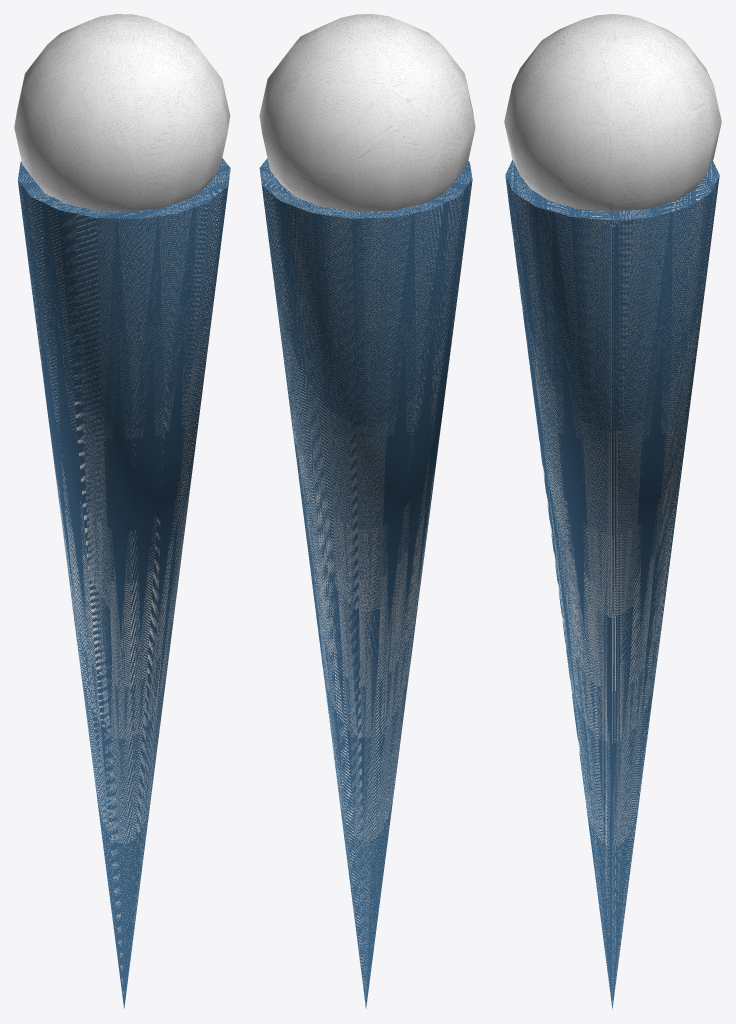
3 renders of one model, left to right at view 1: azimuth 30°, elevation 25°; view 2: azimuth 150°, elevation 25°; view 3: azimuth 270°, elevation 25°, orthographic.
Visible parts, largest first — view 1: mesh1_mesh1-geometry, mesh2_mesh2-geometry; view 2: mesh1_mesh1-geometry, mesh2_mesh2-geometry; view 3: mesh1_mesh1-geometry, mesh2_mesh2-geometry.
Boxes of the visible parts, x1,y1,x2,y2 form: mesh1_mesh1-geometry: (17,158,230,1008); mesh2_mesh2-geometry: (14,14,230,211); mesh1_mesh1-geometry: (259,158,472,1008); mesh2_mesh2-geometry: (259,14,475,211); mesh1_mesh1-geometry: (505,160,719,1009); mesh2_mesh2-geometry: (504,14,721,211).
Size of the model in its own units: 0.175 by 0.8722 by 0.1747.
